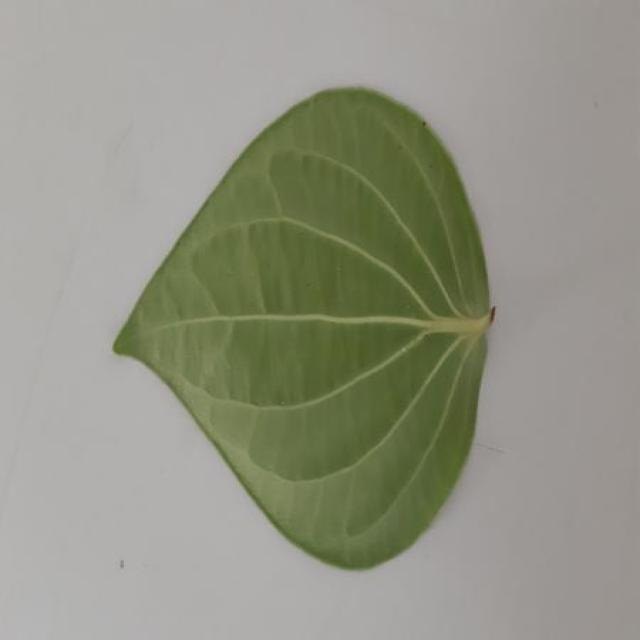betel: (115, 89, 492, 568)
